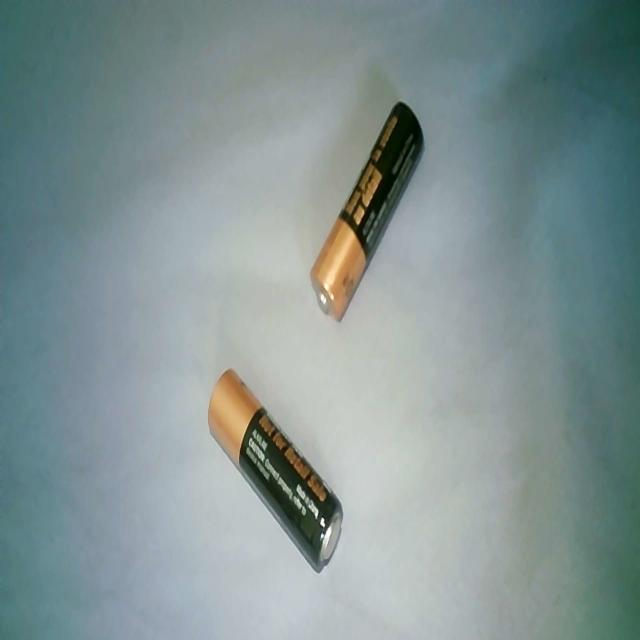AA: (206, 366, 344, 574), (309, 99, 425, 322)
